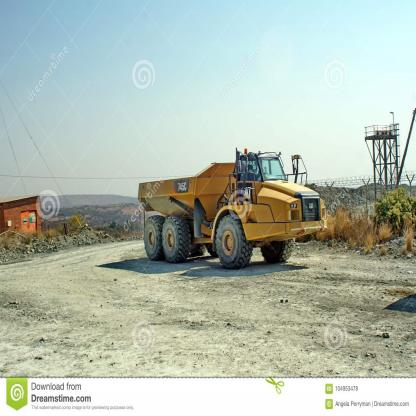dump_truck: (128, 134, 314, 292)
